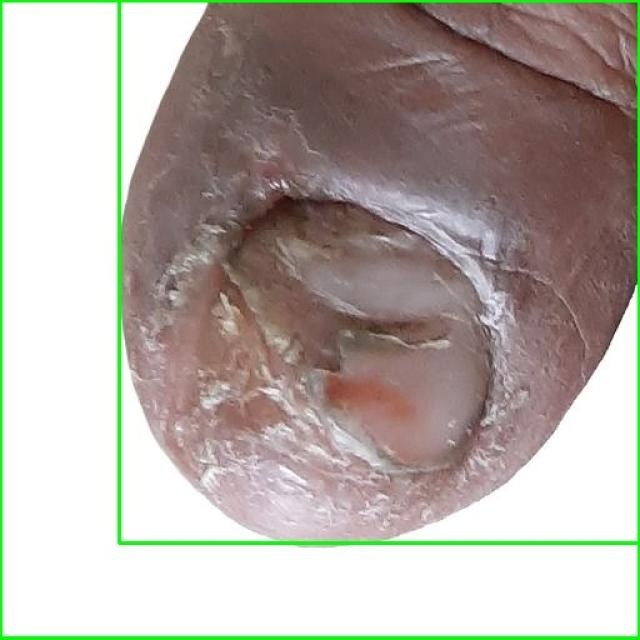Contact Dermatitis: (0, 0, 639, 639), (119, 0, 639, 544)
